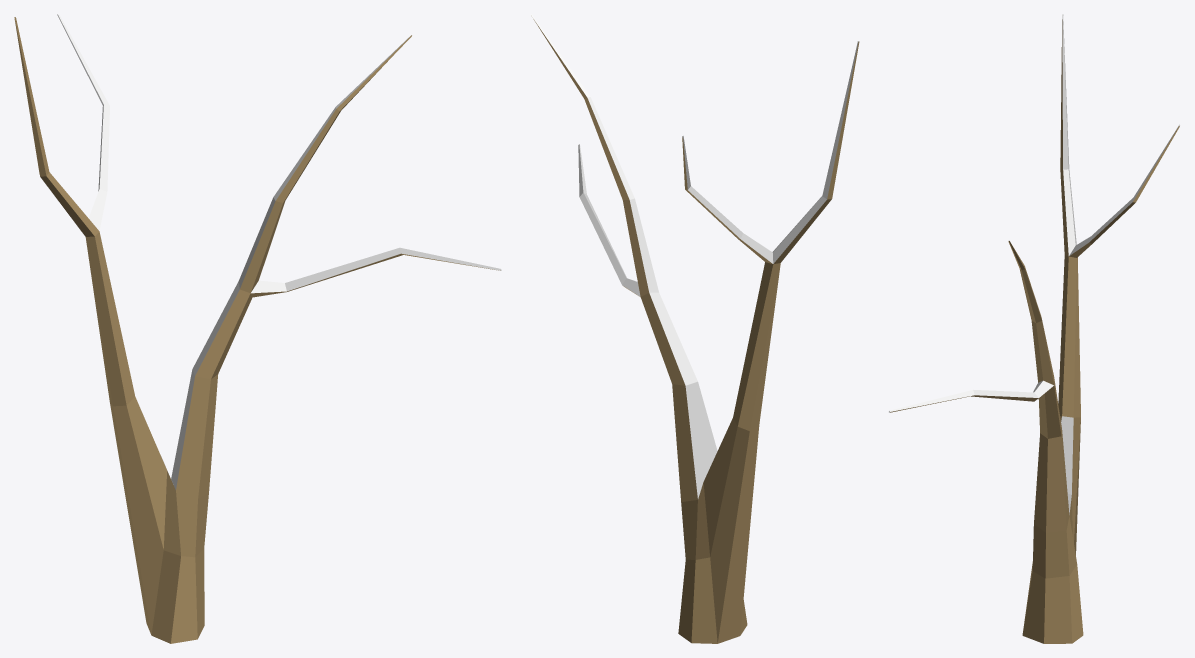
Rendered from Apple_Tree_NoLeaves_m_Snow_08.fbx.
3 renders of one model, left to right at view 1: azimuth 30°, elevation 25°; view 2: azimuth 150°, elevation 25°; view 3: azimuth 270°, elevation 25°, orthographic. The views are drawn at different scales.
Visible parts, largest first — view 1: Apple_Tree_NoLeaves_m_Snow_08; view 2: Apple_Tree_NoLeaves_m_Snow_08; view 3: Apple_Tree_NoLeaves_m_Snow_08.
Boxes of the visible parts, left/top/right/bottom form: Apple_Tree_NoLeaves_m_Snow_08: left=14, top=14, right=501, bottom=643; Apple_Tree_NoLeaves_m_Snow_08: left=530, top=14, right=859, bottom=643; Apple_Tree_NoLeaves_m_Snow_08: left=889, top=14, right=1180, bottom=643.
Size of the model in its own units: 418 by 665 by 317.
